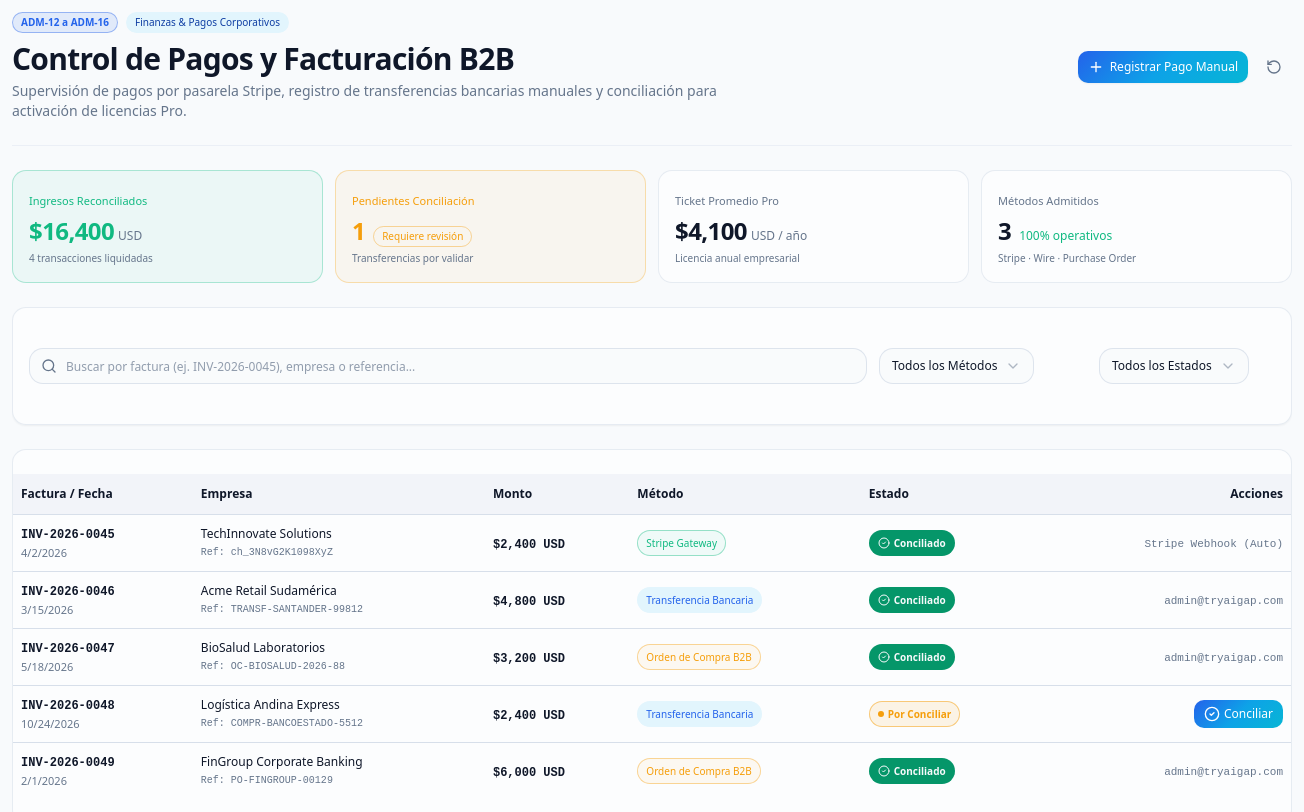
Test: AdminPayments Page › filters payments by search input
This screenshot has width=1304, height=812.
Replace the text in the field with placeholder "Buscar por factura" with "INV-2026-0048" at (448,366), box [29,348,867,384]
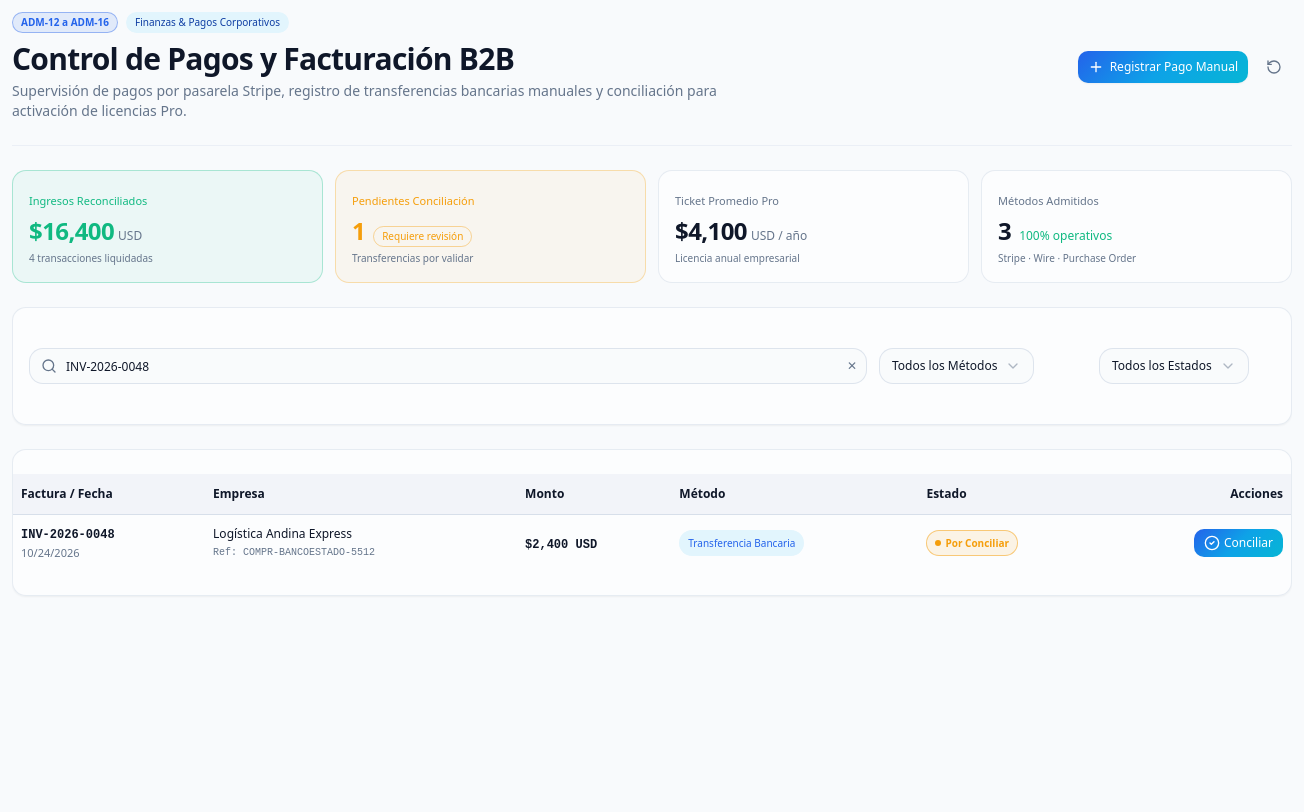
Check: the text "Logística Andina Express" is shown, box [213,524,352,542]
Check: the text "TechInnovate Solutions" is gone
